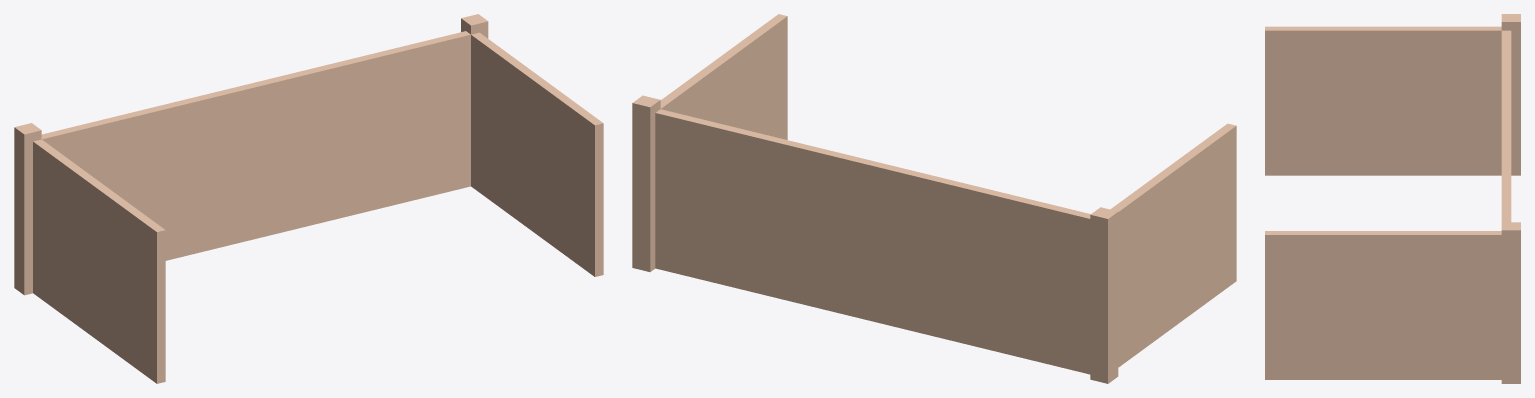
Rendered from fence_small.glb.
3 views of the same model, side by side, from view 1: azimuth 30°, elevation 25°; view 2: azimuth 150°, elevation 25°; view 3: azimuth 270°, elevation 25° (orthographic). The views are drawn at different scales.
Parts seen in each view (by area): view 1: fence_small; view 2: fence_small; view 3: fence_small.
Boxes of the visible parts, x1,y1,x2,y2 form: fence_small: (14,14,603,383); fence_small: (632,14,1236,383); fence_small: (1265,14,1520,383).
Size of the model in its own units: 7.6 by 2.52 by 3.8.
